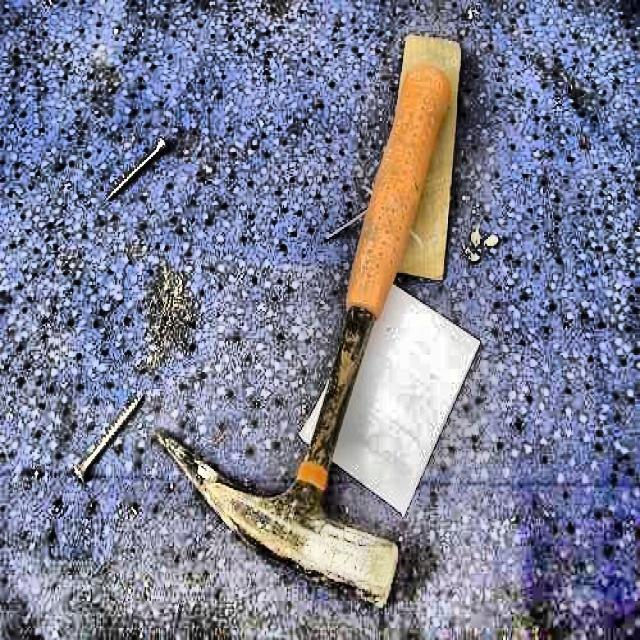hammer: (156, 63, 446, 611)
